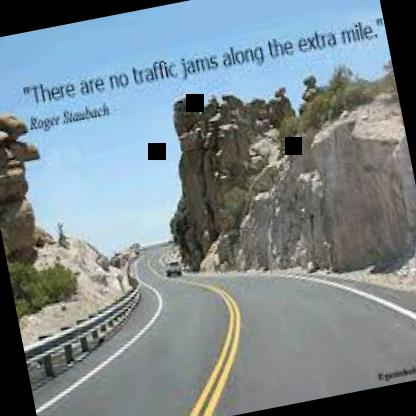car: (154, 252, 192, 289)
